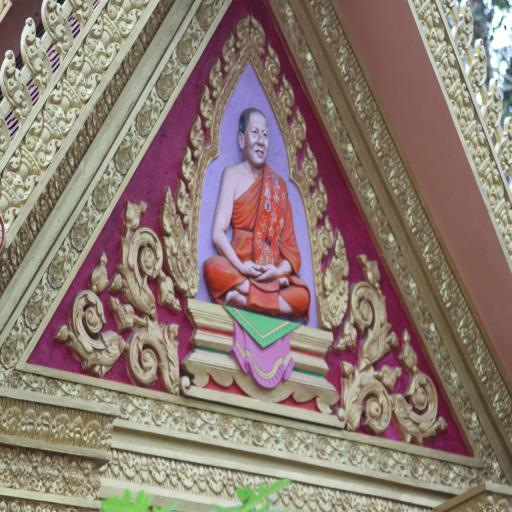hoa: (36, 455, 58, 492), (12, 452, 35, 486), (65, 460, 82, 494), (48, 260, 65, 289), (156, 75, 176, 99), (337, 132, 354, 160), (24, 304, 41, 331), (115, 148, 132, 174), (184, 407, 201, 432), (251, 421, 268, 446), (72, 224, 87, 252), (421, 313, 436, 340), (378, 446, 392, 474), (93, 187, 110, 210), (0, 344, 17, 367), (346, 440, 361, 466), (219, 414, 233, 440), (316, 433, 330, 459), (152, 400, 167, 424), (276, 0, 291, 24), (440, 459, 453, 486), (118, 396, 132, 421), (359, 178, 373, 203), (178, 39, 191, 65), (284, 428, 298, 452), (298, 43, 312, 67), (380, 221, 393, 246), (410, 453, 422, 479), (137, 112, 151, 134), (484, 450, 499, 470), (318, 91, 333, 111), (463, 405, 476, 428), (402, 271, 414, 295), (82, 383, 96, 402), (446, 361, 457, 385), (9, 369, 21, 390), (45, 377, 58, 395)
la: (60, 284, 182, 395), (339, 374, 445, 436), (340, 259, 390, 370), (117, 204, 162, 319), (161, 185, 197, 289), (320, 241, 352, 324), (8, 147, 38, 197), (68, 50, 100, 96), (89, 15, 118, 65), (28, 116, 58, 160), (416, 2, 444, 47), (48, 87, 78, 128), (478, 158, 504, 201), (435, 48, 462, 88), (109, 0, 141, 32), (452, 82, 474, 126), (465, 123, 489, 163), (0, 405, 26, 438), (82, 414, 105, 448), (51, 413, 75, 444), (59, 236, 78, 274), (80, 199, 101, 233), (454, 465, 481, 491), (11, 317, 29, 355), (165, 51, 185, 84), (206, 465, 228, 495), (36, 277, 55, 311), (36, 409, 56, 441), (304, 65, 326, 94), (132, 396, 153, 426), (187, 17, 206, 50), (496, 202, 512, 240), (420, 454, 440, 484), (144, 91, 163, 122), (288, 481, 308, 510), (388, 244, 406, 276), (284, 19, 303, 49), (324, 107, 344, 135), (120, 449, 140, 477), (150, 457, 169, 486), (432, 334, 448, 368), (126, 124, 142, 158), (471, 422, 489, 452), (233, 414, 251, 444), (22, 372, 46, 394), (179, 461, 197, 490), (316, 485, 335, 512), (104, 163, 121, 193), (451, 378, 469, 406), (268, 421, 284, 452), (202, 410, 219, 439), (136, 453, 153, 482), (366, 199, 384, 226), (347, 158, 367, 182), (410, 288, 426, 318), (235, 470, 255, 494), (166, 404, 185, 429), (392, 451, 410, 477), (298, 432, 316, 458), (361, 444, 378, 471), (277, 479, 291, 511), (109, 446, 123, 476), (304, 484, 318, 512), (195, 463, 208, 493), (330, 438, 346, 462), (343, 491, 361, 512), (24, 408, 36, 438), (166, 459, 180, 484), (224, 467, 236, 496), (72, 413, 82, 447), (104, 421, 114, 448), (333, 488, 343, 512)
lua: (0, 44, 30, 119), (20, 17, 52, 84), (42, 0, 69, 52), (452, 0, 474, 55), (468, 35, 489, 91), (484, 78, 508, 126), (182, 140, 200, 184), (500, 114, 512, 178), (250, 12, 266, 58), (290, 104, 306, 148), (278, 73, 295, 114), (177, 183, 193, 225), (207, 60, 225, 96), (198, 85, 216, 121), (264, 40, 279, 83), (302, 140, 316, 186), (190, 116, 208, 150), (319, 215, 333, 258), (223, 31, 239, 68), (236, 10, 250, 51), (312, 176, 325, 218)
than: (208, 101, 316, 319)
